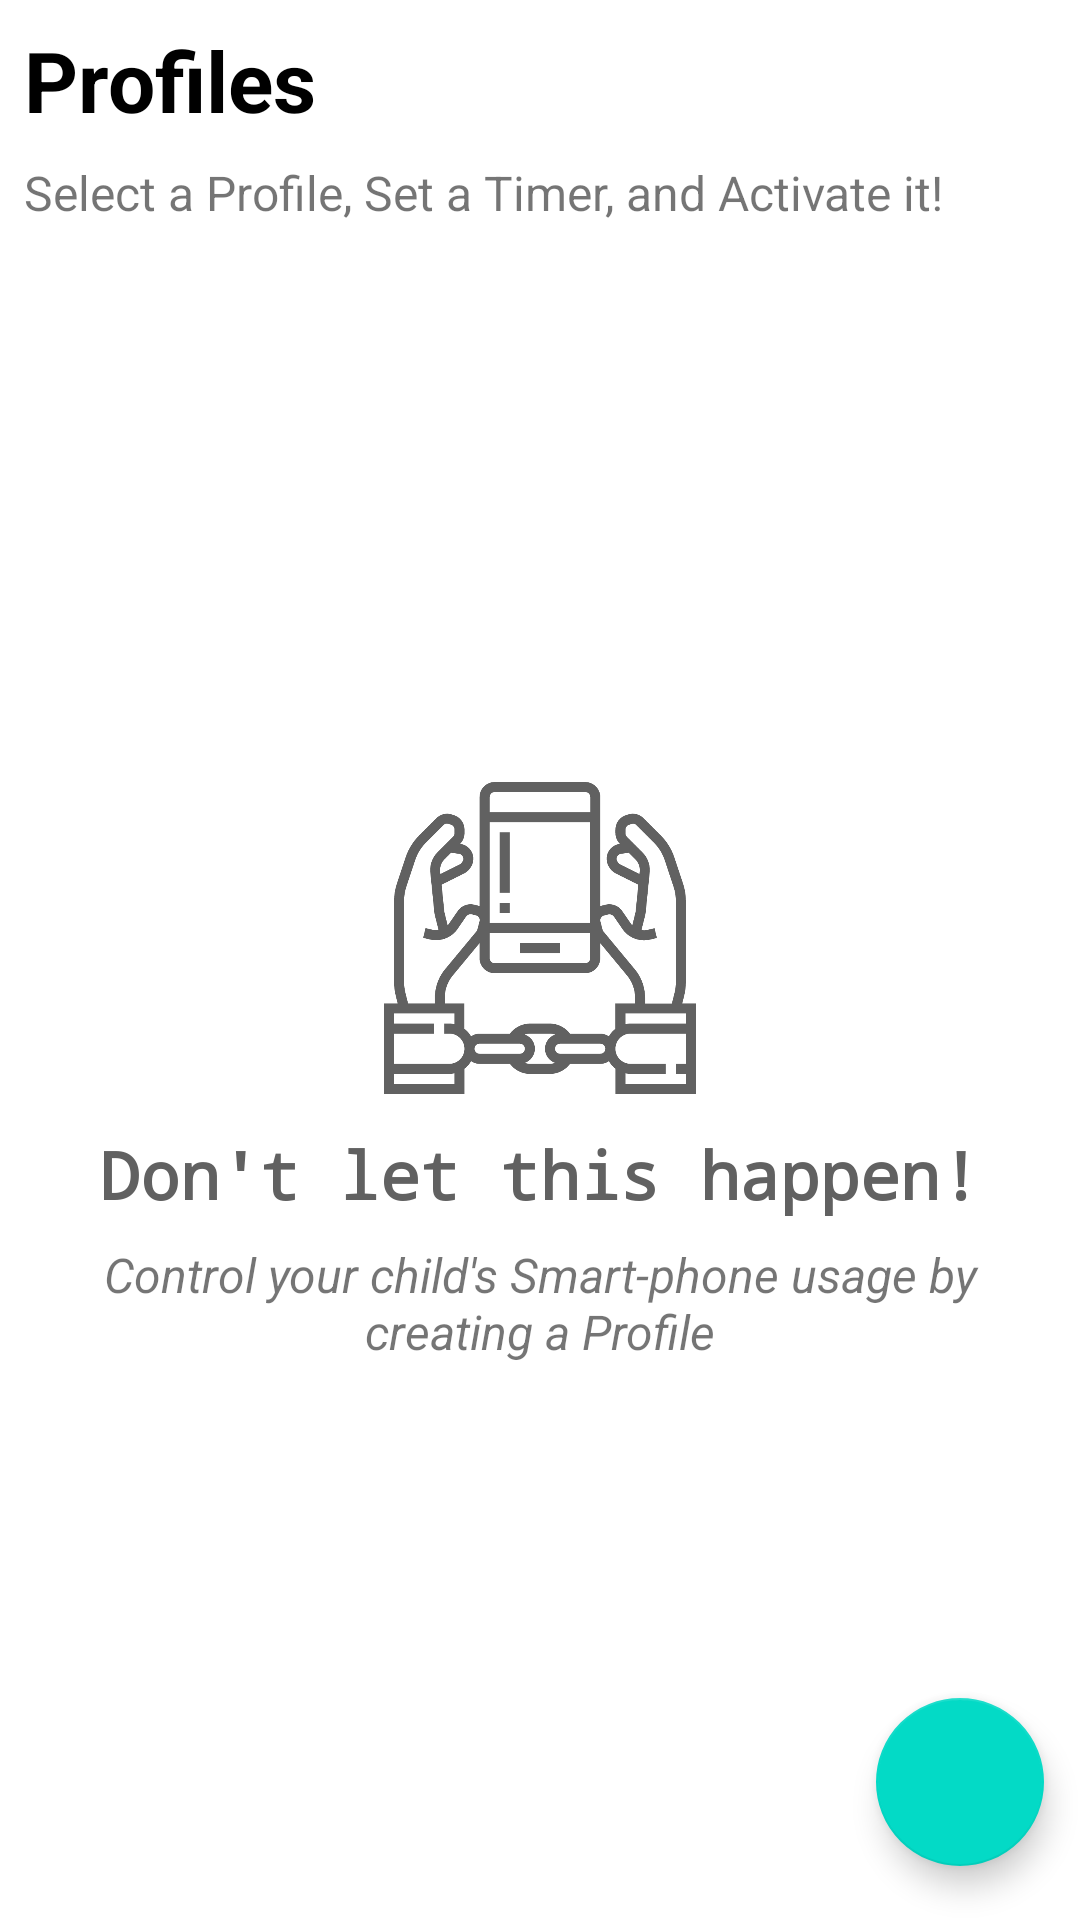

Icon bounding boxes for this 1080*1920 phone screenshot, format (x1, y1, x2, y2):
addiction: (384, 782, 696, 1094)
